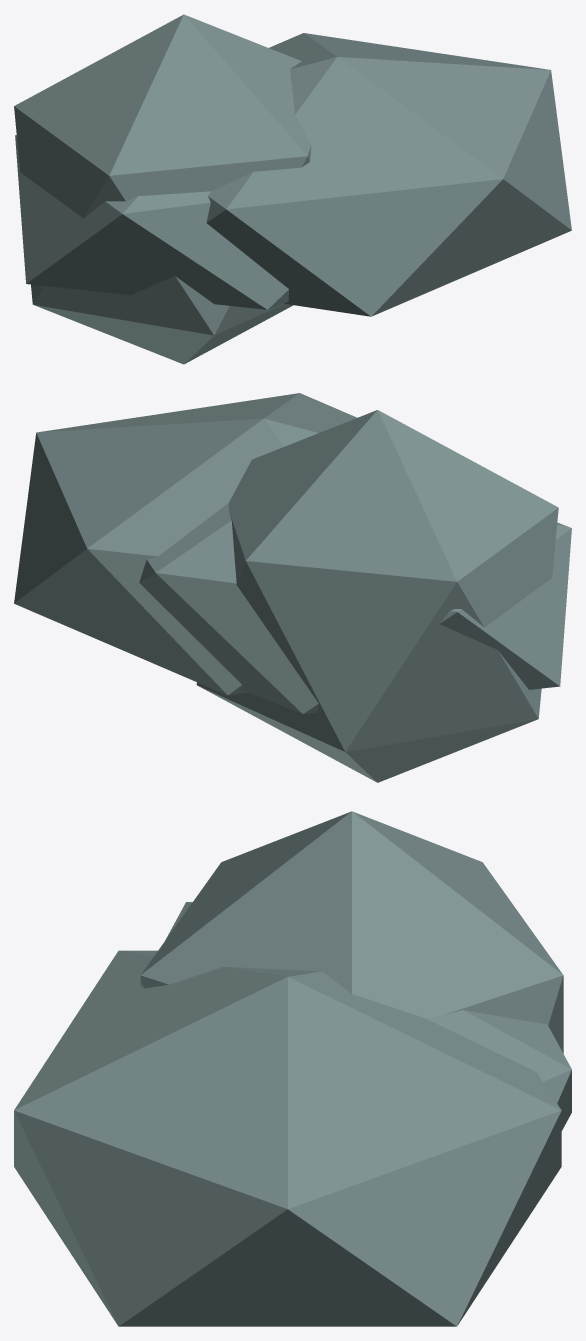
The model's file is basalt.glb.
3 views of the same model, one above another, from view 1: azimuth 30°, elevation 25°; view 2: azimuth 150°, elevation 25°; view 3: azimuth 270°, elevation 25° (orthographic). The views are drawn at different scales.
Parts seen in each view (by area): view 1: basalt; view 2: basalt; view 3: basalt.
Boxes of the visible parts, x1,y1,x2,y2 form: basalt: (14,14,571,364); basalt: (14,393,571,782); basalt: (14,811,571,1326).
Size of the model in its own units: 1.93 by 1.27 by 1.34.
